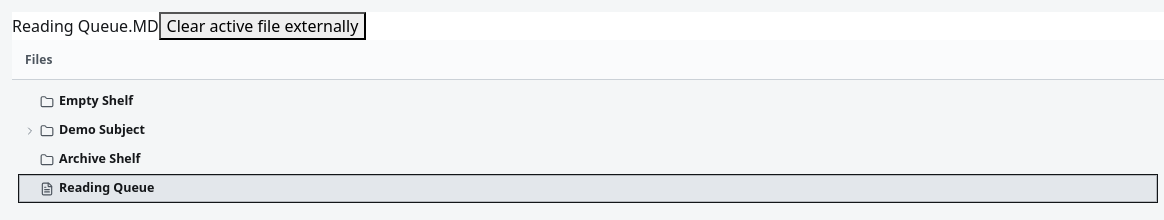
FileExplorer › clears the active note when its row is additively toggled off
Click the list item "Reading Queue" at (107, 188), box [18,174,1158,203]
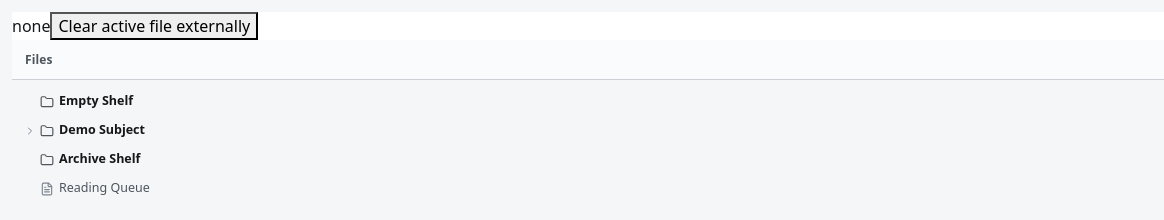
Expected: the text with test id "active-file" reads "none", [12,15,50,37]
